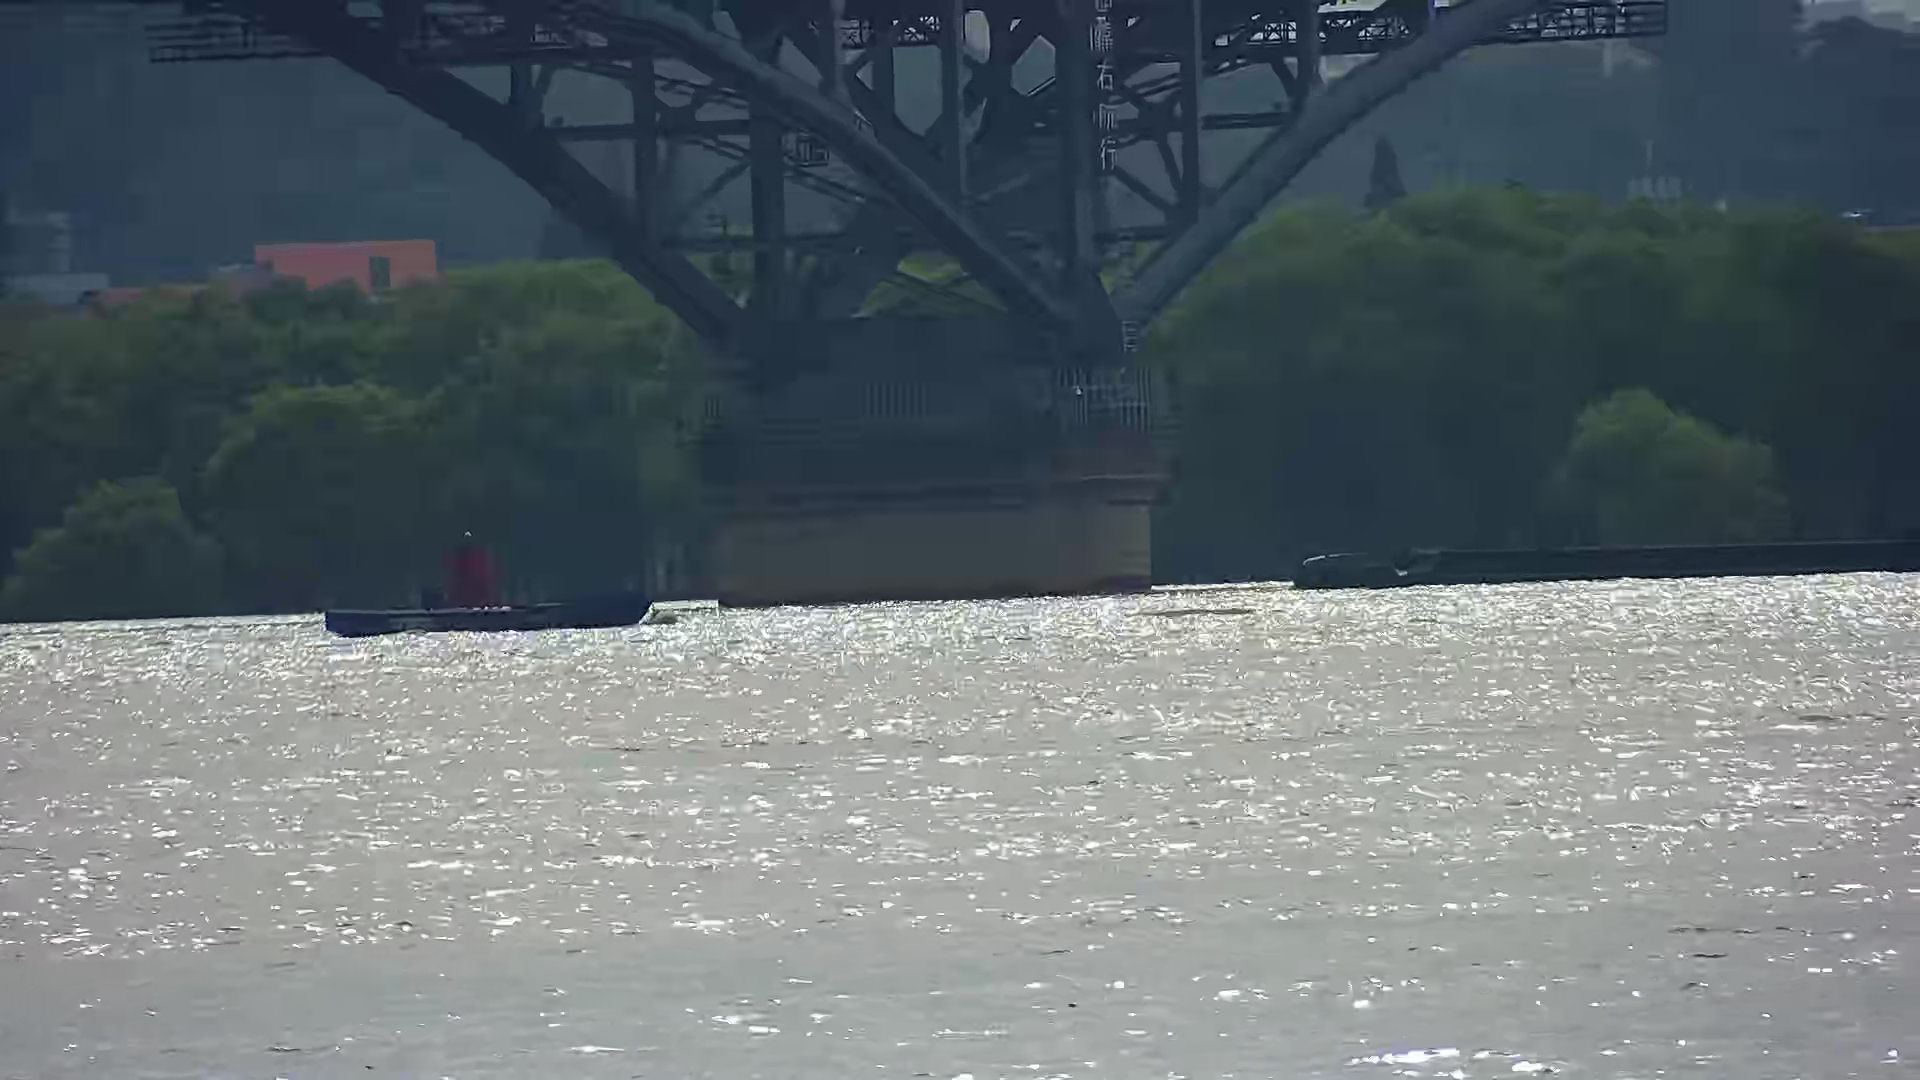boat: (324, 549, 651, 637)
ship: (146, 1, 1664, 600), (1298, 538, 1920, 588)
